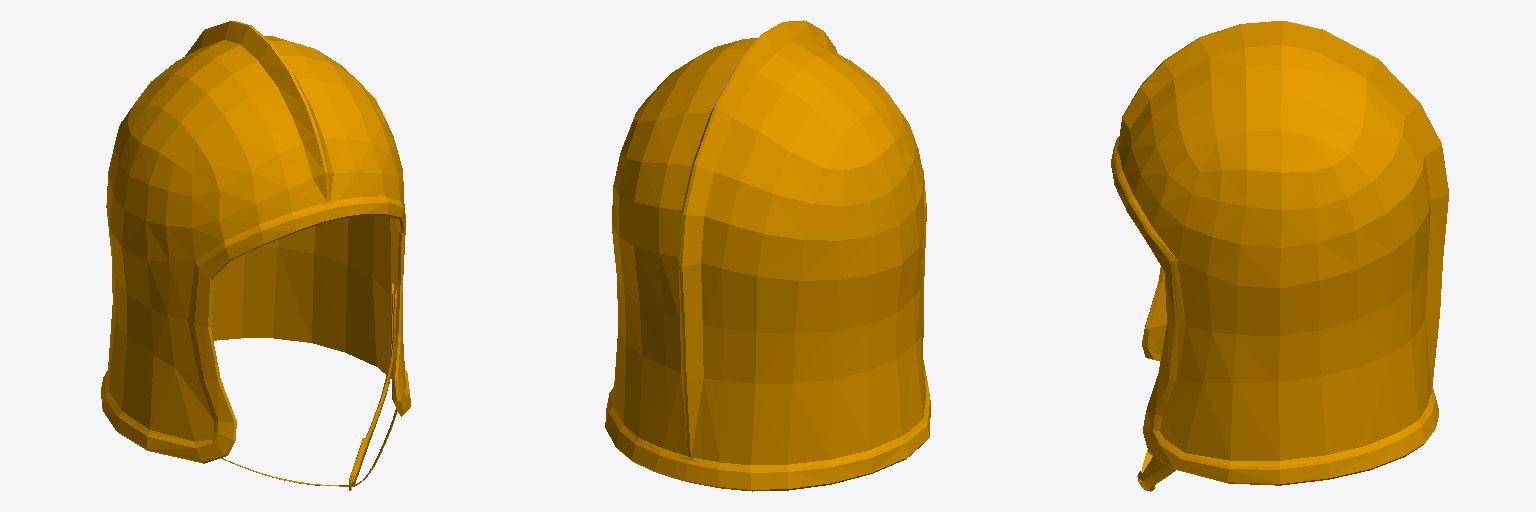
The robot description file, URDF, robot "mesh_object":
<robot name="mesh_object">
            <link name="base">
                <visual>
                    <geometry>
                        <mesh filename="armor_3.obj" scale="1 1 1" />
                    </geometry>
                </visual>
                <collision>
                    <geometry>
                        <mesh filename="armor_3.obj" scale="1 1 1" />
                    </geometry>
                </collision>
                <inertial>
                    <origin xyz="0 0 0.0480546925" rpy="0 0 0" />
                    <mass value="0.5" />
                    <inertia ixx="0.01" iyy="0.01" izz="0.01" ixy="0" ixz="0" iyz="0" />
                </inertial>
            </link>
            </robot>

--- What the picture shows (computed from the rendered views, not written in the file) ---
3 views of the same robot in one strip: view 1: azimuth 30°, elevation 25°; view 2: azimuth 150°, elevation 25°; view 3: azimuth 270°, elevation 25° (orthographic).
Model mesh_object with 1 links and 0 joints (none), rooted at base, posed all joints at 0.
Visible links, largest first — view 1: base; view 2: base; view 3: base.
Link boxes in pixels (left/top/right/bottom): base: left=101, top=21, right=410, bottom=490; base: left=605, top=20, right=930, bottom=491; base: left=1111, top=21, right=1448, bottom=491.
Bounding box of the posed robot: 0.0646 × 0.0653 × 0.0961 m (x, y, z).
1 mesh visuals loaded from 1 distinct referenced files (1 OBJ).
